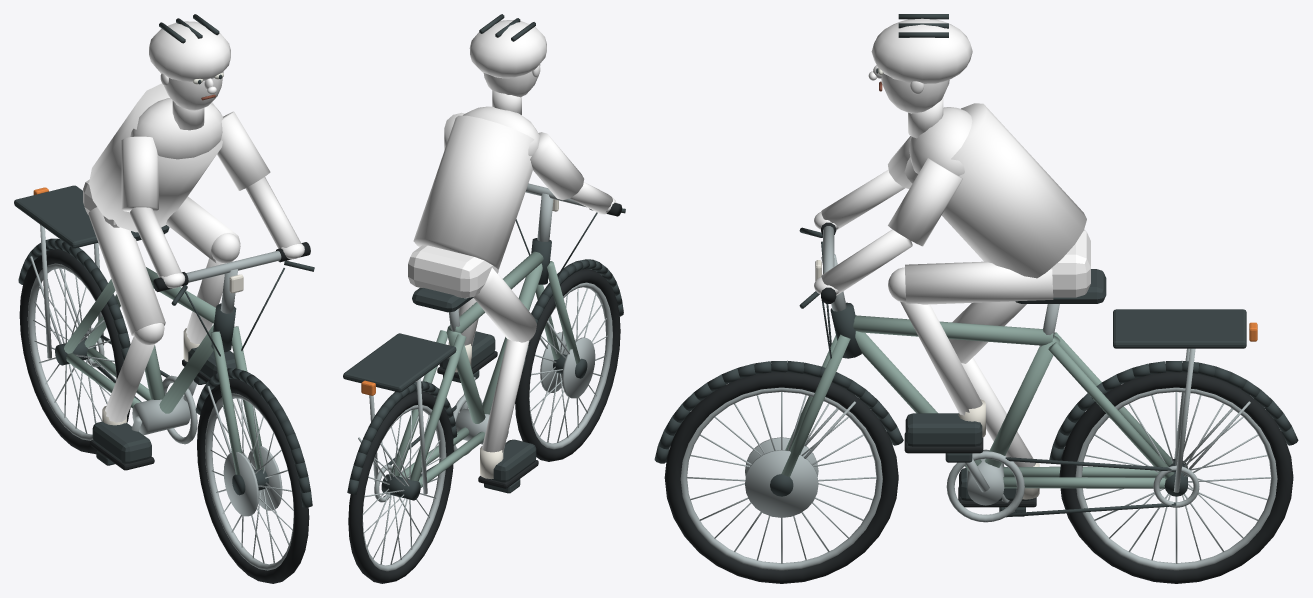
The model's file is site-cyclist.glb.
3 renders of one model, left to right at view 1: azimuth 30°, elevation 25°; view 2: azimuth 150°, elevation 25°; view 3: azimuth 270°, elevation 25°, orthographic. The views are drawn at different scales.
Visible parts, largest first — view 1: CycleBody_Person_shirt, CycleBody_Anthracite_anodized_metal, CycleBody_Sage_ceramic_cladding, CycleBody_Galvanized_brushed_steel, CycleBody_Person_skin, CycleFW_Rubber_gaskets_and_feet, CycleThighL_Person_trousers, CycleRW_Rubber_gaskets_and_feet, CycleFW_Galvanized_brushed_steel, CycleRW_Galvanized_brushed_steel, CycleThighR_Person_trousers, CycleCalfL_Person_skin (+10 smaller); view 2: CycleBody_Person_shirt, CycleBody_Anthracite_anodized_metal, CycleBody_Sage_ceramic_cladding, CycleBody_Galvanized_brushed_steel, CycleRW_Rubber_gaskets_and_feet, CycleFW_Rubber_gaskets_and_feet, CycleRW_Galvanized_brushed_steel, CycleBody_Person_trousers, CycleFW_Galvanized_brushed_steel, CycleCalfL_Person_skin, CycleThighL_Person_trousers, CycleBody_Person_skin (+6 smaller); view 3: CycleBody_Person_shirt, CycleBody_Anthracite_anodized_metal, CycleBody_Sage_ceramic_cladding, CycleFW_Rubber_gaskets_and_feet, CycleRW_Rubber_gaskets_and_feet, CycleBody_Galvanized_brushed_steel, CycleBody_Person_skin, CycleRW_Galvanized_brushed_steel, CycleFW_Galvanized_brushed_steel, CycleThighR_Person_trousers, CycleCalfR_Person_skin, CycleShoeR_Anthracite_anodized_metal (+4 smaller).
Boxes of the visible parts, x1,y1,x2,y2 form: CycleBody_Person_shirt: (89,21,270,232); CycleBody_Anthracite_anodized_metal: (14,14,314,507); CycleBody_Sage_ceramic_cladding: (64,267,263,474); CycleBody_Galvanized_brushed_steel: (30,224,282,516); CycleBody_Person_skin: (130,71,304,288); CycleFW_Rubber_gaskets_and_feet: (197,379,309,583); CycleThighL_Person_trousers: (88,207,165,335); CycleRW_Rubber_gaskets_and_feet: (19,249,130,454); CycleFW_Galvanized_brushed_steel: (205,393,294,570); CycleRW_Galvanized_brushed_steel: (27,263,116,440); CycleThighR_Person_trousers: (166,196,240,262); CycleCalfL_Person_skin: (105,336,154,422); CycleBody_Person_shirt: (413,20,584,269); CycleBody_Anthracite_anodized_metal: (343,14,625,496); CycleBody_Sage_ceramic_cladding: (390,251,580,487); CycleBody_Galvanized_brushed_steel: (358,183,595,502); CycleRW_Rubber_gaskets_and_feet: (348,391,453,583); CycleFW_Rubber_gaskets_and_feet: (515,269,620,461); CycleRW_Galvanized_brushed_steel: (362,405,446,571); CycleBody_Person_trousers: (408,245,498,298); CycleFW_Galvanized_brushed_steel: (529,282,612,449); CycleCalfL_Person_skin: (482,339,529,452); CycleThighL_Person_trousers: (473,267,536,342); CycleBody_Person_skin: (483,64,616,214); CycleBody_Person_shirt: (871,18,1086,278); CycleBody_Anthracite_anodized_metal: (654,14,1298,517); CycleBody_Sage_ceramic_cladding: (781,315,1174,488); CycleFW_Rubber_gaskets_and_feet: (664,372,898,583); CycleRW_Rubber_gaskets_and_feet: (1059,372,1293,583); CycleBody_Galvanized_brushed_steel: (745,226,1250,517); CycleBody_Person_skin: (814,65,949,295); CycleRW_Galvanized_brushed_steel: (1075,387,1277,570); CycleFW_Galvanized_brushed_steel: (680,387,882,570); CycleThighR_Person_trousers: (905,261,1053,304); CycleCalfR_Person_skin: (900,301,982,415); CycleShoeR_Anthracite_anodized_metal: (905,413,982,446).
Size of the model in its own units: 0.58 by 1.85 by 1.93.
